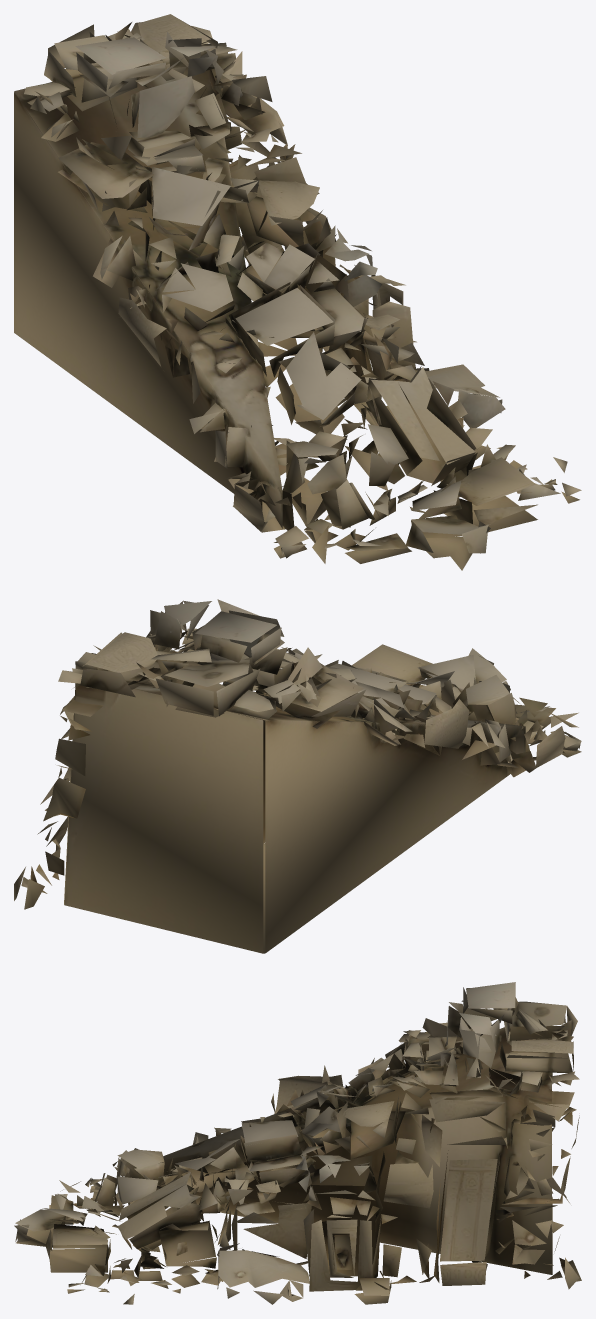
Rendered from fin_rockfall_rubble_slope_LOD3.glb.
3 renders of one model, top to bottom at view 1: azimuth 30°, elevation 25°; view 2: azimuth 150°, elevation 25°; view 3: azimuth 270°, elevation 25°, orthographic. The views are drawn at different scales.
Parts seen in each view (by area): view 1: tripo_node_8024f827-60a6-4286-b321-2efb5a994bcf; view 2: tripo_node_8024f827-60a6-4286-b321-2efb5a994bcf; view 3: tripo_node_8024f827-60a6-4286-b321-2efb5a994bcf.
Part boxes in pixels (bbox=[...]): tripo_node_8024f827-60a6-4286-b321-2efb5a994bcf: bbox=[14, 14, 581, 570]; tripo_node_8024f827-60a6-4286-b321-2efb5a994bcf: bbox=[14, 599, 581, 953]; tripo_node_8024f827-60a6-4286-b321-2efb5a994bcf: bbox=[14, 982, 581, 1304].
Bounding box in the file's own units: 0.5015 × 0.4573 × 0.9941.
Materials: 1 (1 with a texture image).
